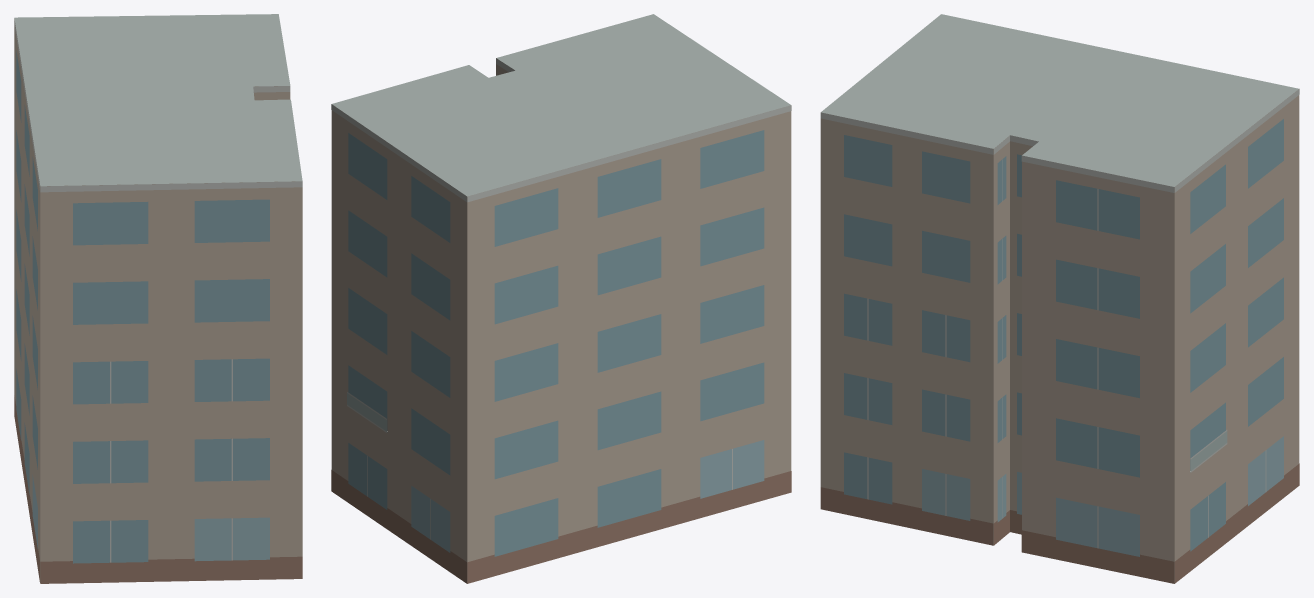
The model's file is survey-upis-32887759.glb.
3 renders of one model, left to right at view 1: azimuth 30°, elevation 25°; view 2: azimuth 150°, elevation 25°; view 3: azimuth 270°, elevation 25°, orthographic. The views are drawn at different scales.
Parts seen in each view (by area): view 1: survey-upis-32887759.tmp; view 2: survey-upis-32887759.tmp; view 3: survey-upis-32887759.tmp.
Boxes of the visible parts, <box> form: survey-upis-32887759.tmp: <box>14,14,302,583</box>; survey-upis-32887759.tmp: <box>331,14,791,583</box>; survey-upis-32887759.tmp: <box>820,14,1299,583</box>.
Bounding box in the file's own units: 14.97 × 16 × 17.5.
